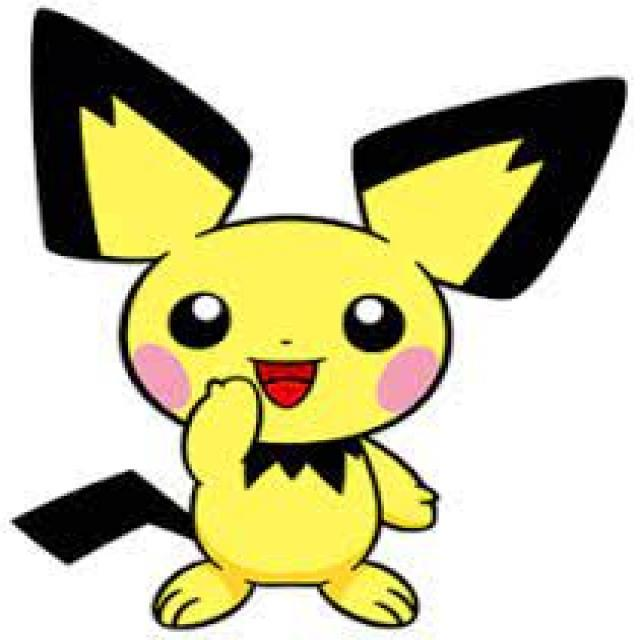pichu: (17, 14, 632, 622)
